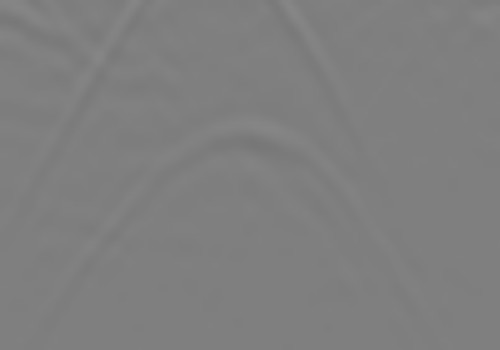hyperbola: (81, 107, 398, 281)
